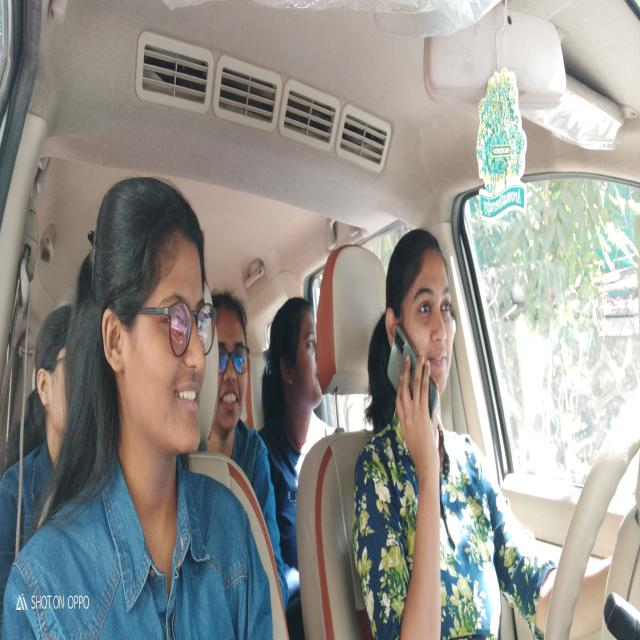mobile: (386, 328, 439, 434)
person: (90, 171, 216, 475), (381, 222, 462, 459), (34, 300, 80, 474), (266, 296, 319, 436), (212, 288, 254, 443)
